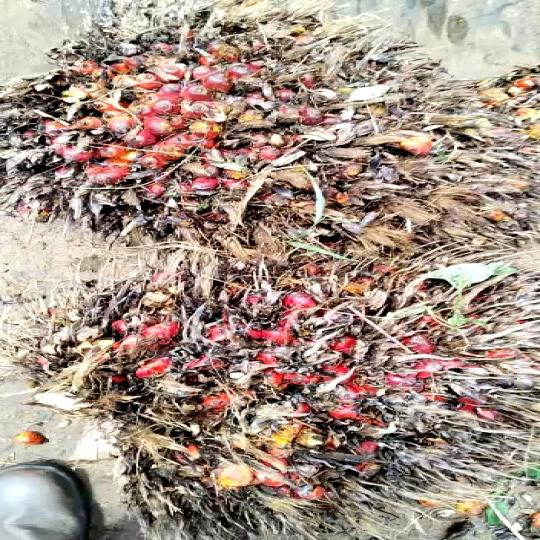terlalu masak: (4, 3, 540, 254), (40, 253, 533, 515)
